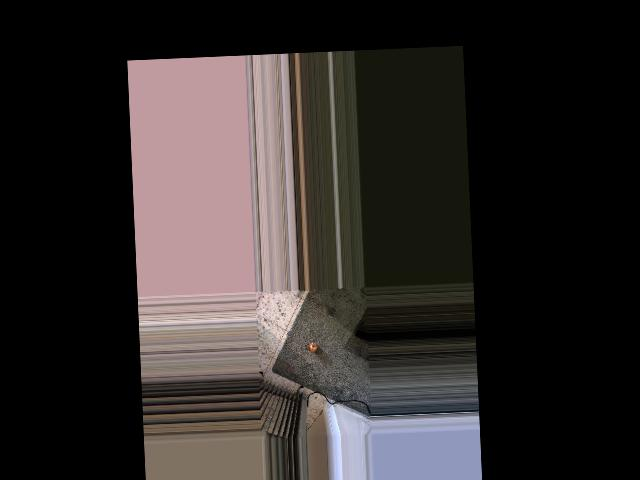onion: (308, 341, 318, 353)
